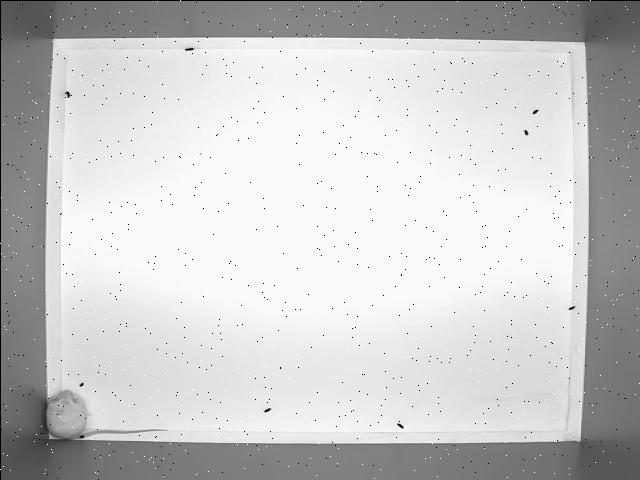Tikus: (42, 388, 168, 438)
